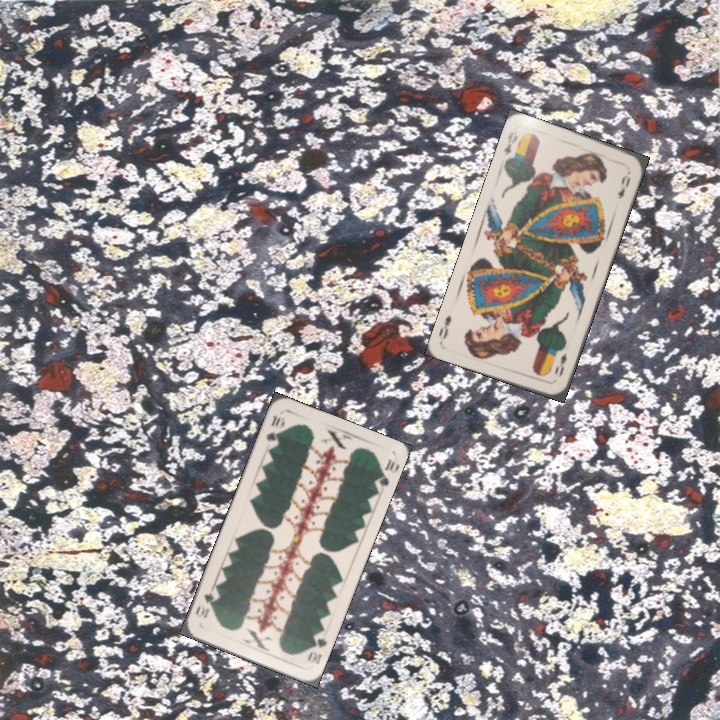EO: (500, 127, 520, 158), (550, 349, 569, 380)
G10: (303, 628, 330, 667), (262, 411, 287, 444)
